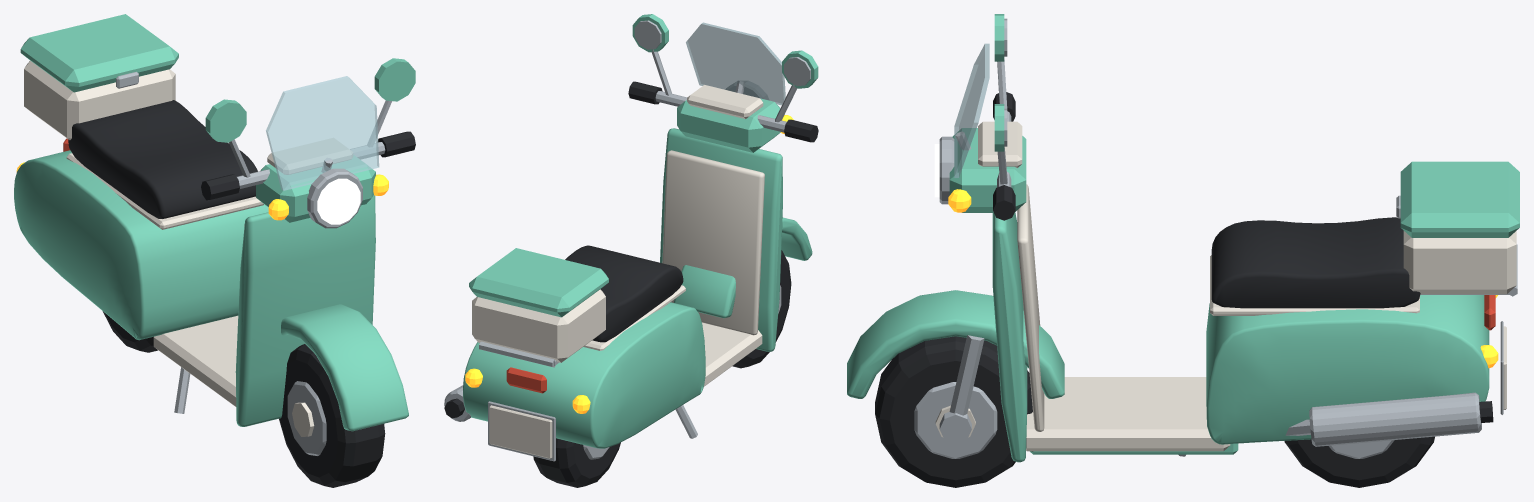
File: mint-motor-scooter.glb
3 views of the same model, side by side, from view 1: azimuth 30°, elevation 25°; view 2: azimuth 150°, elevation 25°; view 3: azimuth 270°, elevation 25° (orthographic). The views are drawn at different scales.
Visible parts, largest first — view 1: Body_RearCowl, Body_LegShield, Seat, Windscreen, Body_FrontFender, StorageLid_Shell, Wheel_Front, StorageBox, Body_Floor, Headset, Headset_Top, Wheel_Front_Hub (+11 smaller); view 2: Body_RearCowl, Body_ShieldLiner, Body_LegShield, StorageLid_Shell, StorageBox, Windscreen, Seat, Body_FrontFender, Headset, LicencePlate, Wheel_Rear, Body_Floor (+13 smaller); view 3: Body_RearCowl, Seat, Body_Floor, Wheel_Front, StorageLid_Shell, Body_FrontFender, Exhaust, Body_LegShield, StorageBox, Wheel_Rear, Wheel_Front_Hub, Body_ShieldLiner (+9 smaller).
Boxes of the visible parts, bbox=[...] form: Body_RearCowl: bbox=[14, 150, 268, 340]; Body_LegShield: bbox=[235, 195, 375, 426]; Seat: bbox=[68, 100, 257, 218]; Windscreen: bbox=[266, 76, 379, 190]; Body_FrontFender: bbox=[281, 304, 408, 431]; StorageLid_Shell: bbox=[20, 14, 178, 92]; Wheel_Front: bbox=[279, 344, 385, 487]; StorageBox: bbox=[24, 60, 175, 139]; Body_Floor: bbox=[153, 315, 238, 406]; Headset: bbox=[256, 155, 375, 222]; Headset_Top: bbox=[267, 138, 352, 174]; Wheel_Front_Hub: bbox=[287, 381, 326, 455]; Body_RearCowl: bbox=[463, 302, 705, 448]; Body_ShieldLiner: bbox=[662, 150, 764, 335]; Body_LegShield: bbox=[660, 128, 782, 351]; StorageLid_Shell: bbox=[469, 248, 608, 317]; StorageBox: bbox=[472, 289, 605, 362]; Windscreen: bbox=[686, 22, 785, 105]; Seat: bbox=[565, 245, 683, 342]; Body_FrontFender: bbox=[674, 217, 812, 318]; Headset: bbox=[677, 98, 780, 152]; LicencePlate: bbox=[489, 405, 552, 458]; Wheel_Rear: bbox=[533, 438, 620, 487]; Body_Floor: bbox=[702, 322, 762, 386]; Body_RearCowl: bbox=[1206, 295, 1489, 444]; Seat: bbox=[1211, 217, 1420, 308]; Body_Floor: bbox=[1026, 377, 1230, 451]; Wheel_Front: bbox=[875, 336, 1032, 487]; StorageLid_Shell: bbox=[1400, 161, 1519, 237]; Body_FrontFender: bbox=[847, 290, 1064, 398]; Exhaust: bbox=[1309, 392, 1481, 446]; Body_LegShield: bbox=[992, 212, 1027, 462]; StorageBox: bbox=[1403, 231, 1516, 294]; Wheel_Rear: bbox=[1284, 436, 1434, 487]; Wheel_Front_Hub: bbox=[914, 382, 997, 458]; Body_ShieldLiner: bbox=[1017, 184, 1044, 431].
Size of the model in its own units: 3.21 by 5.75 by 8.34.
